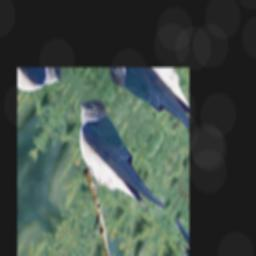Swallow: (50, 84, 179, 248)
